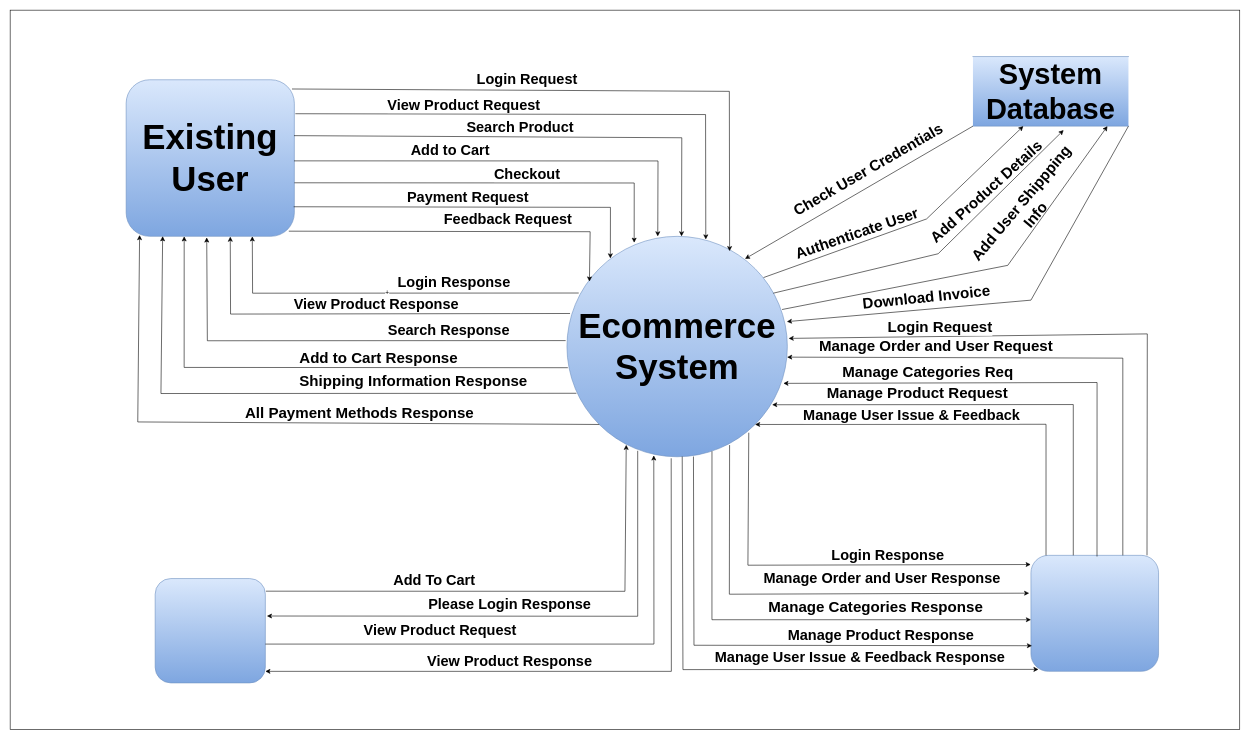
Image size: 1250x740. Some labels were removed from this diagram. Each missing label, with the box of its shape:
Admin: (1030, 555, 1159, 671)
New User: (155, 578, 265, 683)
